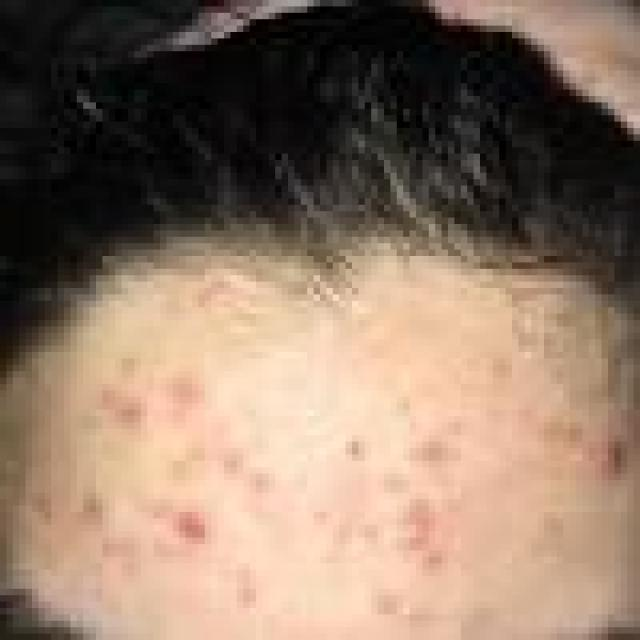Acne: (35, 280, 605, 608), (380, 479, 470, 584), (576, 403, 640, 493), (169, 491, 235, 562), (96, 387, 160, 451), (153, 350, 212, 418)
